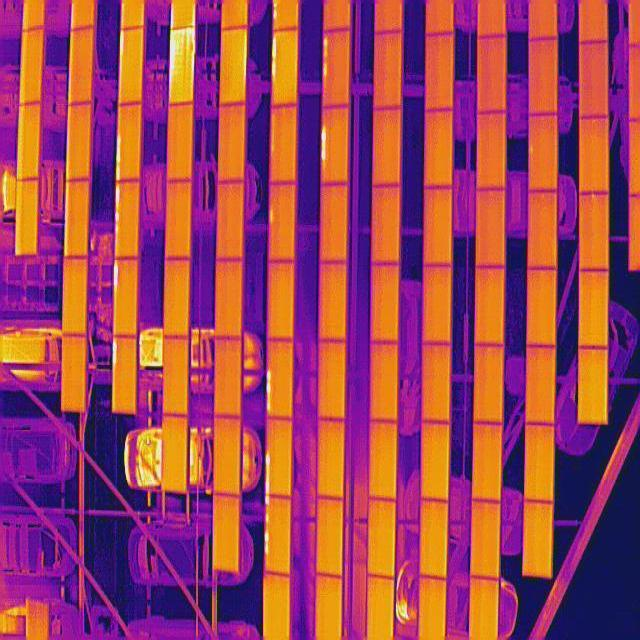Cell: (268, 184, 297, 262)
Cell-Multi: (264, 497, 292, 575)
No-Anomaly: (523, 425, 555, 503), (474, 345, 505, 425), (528, 36, 558, 118), (372, 30, 403, 109), (475, 268, 506, 346), (527, 112, 557, 192), (318, 182, 348, 262), (527, 188, 557, 268), (580, 192, 609, 274), (478, 36, 507, 118), (579, 116, 609, 195), (526, 345, 556, 424), (372, 105, 401, 186), (474, 420, 503, 501), (477, 188, 506, 268), (216, 258, 245, 338), (422, 265, 451, 345), (214, 338, 243, 418), (422, 342, 451, 422), (370, 342, 399, 422), (422, 421, 451, 501), (162, 260, 191, 339), (579, 346, 608, 425), (369, 421, 398, 500), (420, 500, 449, 579), (579, 272, 609, 348), (523, 502, 553, 578), (472, 502, 502, 578), (220, 27, 248, 108), (371, 184, 399, 264), (319, 262, 347, 342), (371, 264, 399, 344), (528, 268, 556, 348), (426, 34, 454, 114), (268, 105, 296, 184), (216, 181, 244, 260), (267, 261, 295, 340), (479, 109, 506, 190), (425, 108, 452, 188), (317, 419, 344, 499), (369, 498, 396, 578), (68, 24, 95, 104), (162, 416, 189, 495), (214, 418, 241, 497), (580, 40, 608, 116), (425, 185, 451, 266), (162, 334, 188, 415), (319, 340, 346, 418), (317, 496, 343, 576), (166, 180, 192, 259), (220, 100, 245, 182), (167, 104, 193, 181), (65, 179, 90, 259), (19, 26, 44, 106), (62, 333, 87, 412), (16, 102, 41, 180), (62, 257, 87, 335), (215, 495, 240, 573), (68, 101, 92, 182), (15, 176, 38, 255)
Unclassified: (266, 339, 294, 420), (322, 30, 351, 106), (322, 106, 349, 185), (271, 30, 298, 109), (266, 420, 292, 498), (117, 102, 142, 182), (114, 258, 139, 338), (170, 26, 195, 105), (115, 180, 140, 258), (119, 28, 144, 106), (112, 337, 136, 412)
